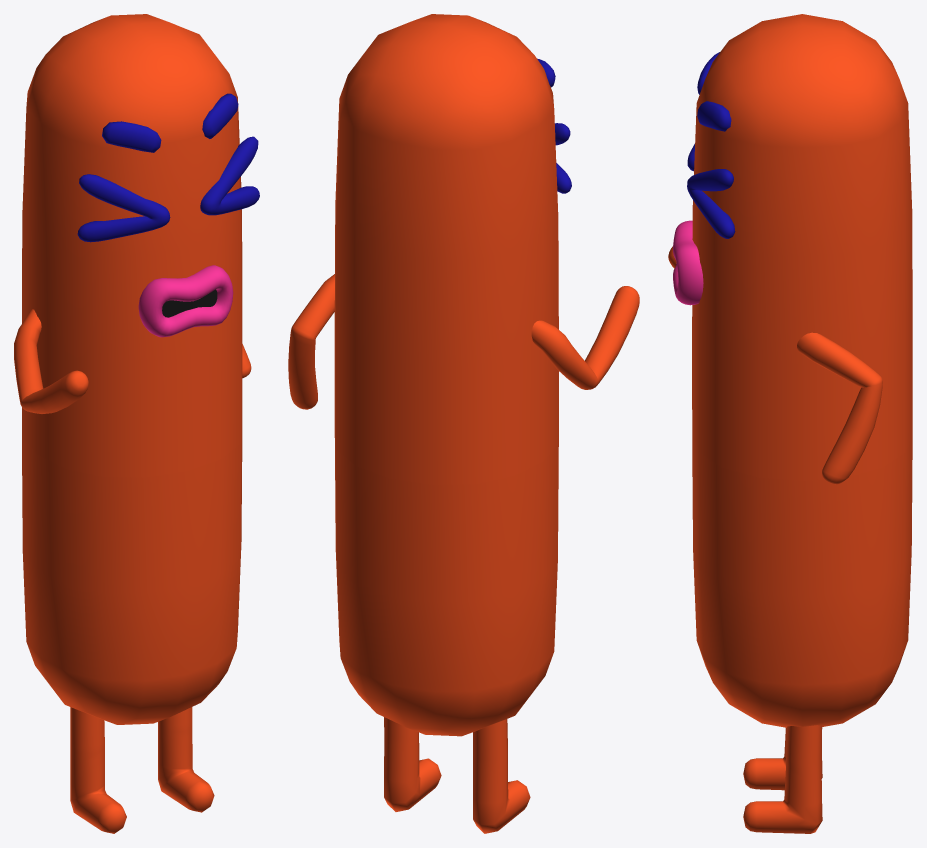
Rendered from New base cut ngang.fbx.
3 views of the same model, side by side, from view 1: azimuth 30°, elevation 25°; view 2: azimuth 150°, elevation 25°; view 3: azimuth 270°, elevation 25° (orthographic).
Visible parts, largest first — view 1: polySurface16458, polySurface16460, face1; view 2: polySurface16458, polySurface16460, face1; view 3: polySurface16458, polySurface16460, face1.
Boxes of the visible parts, left/top/right/bottom form: polySurface16458: left=14, top=14, right=251, bottom=477; polySurface16460: left=22, top=429, right=242, bottom=833; face1: left=77, top=93, right=259, bottom=337; polySurface16458: left=288, top=14, right=639, bottom=484; polySurface16460: left=334, top=433, right=558, bottom=833; face1: left=537, top=58, right=571, bottom=193; polySurface16458: left=668, top=14, right=912, bottom=484; polySurface16460: left=692, top=435, right=912, bottom=833; face1: left=673, top=52, right=735, bottom=305.
Size of the model in its own units: 145 by 410 by 116.
